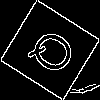Q: (25, 25, 86, 83)
